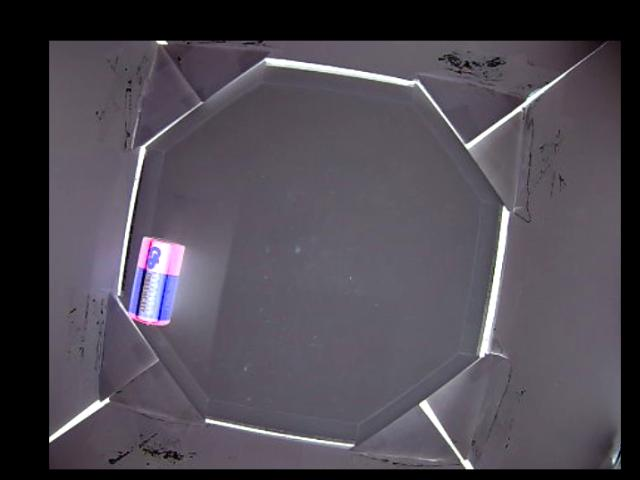Battery: (125, 236, 185, 325)
